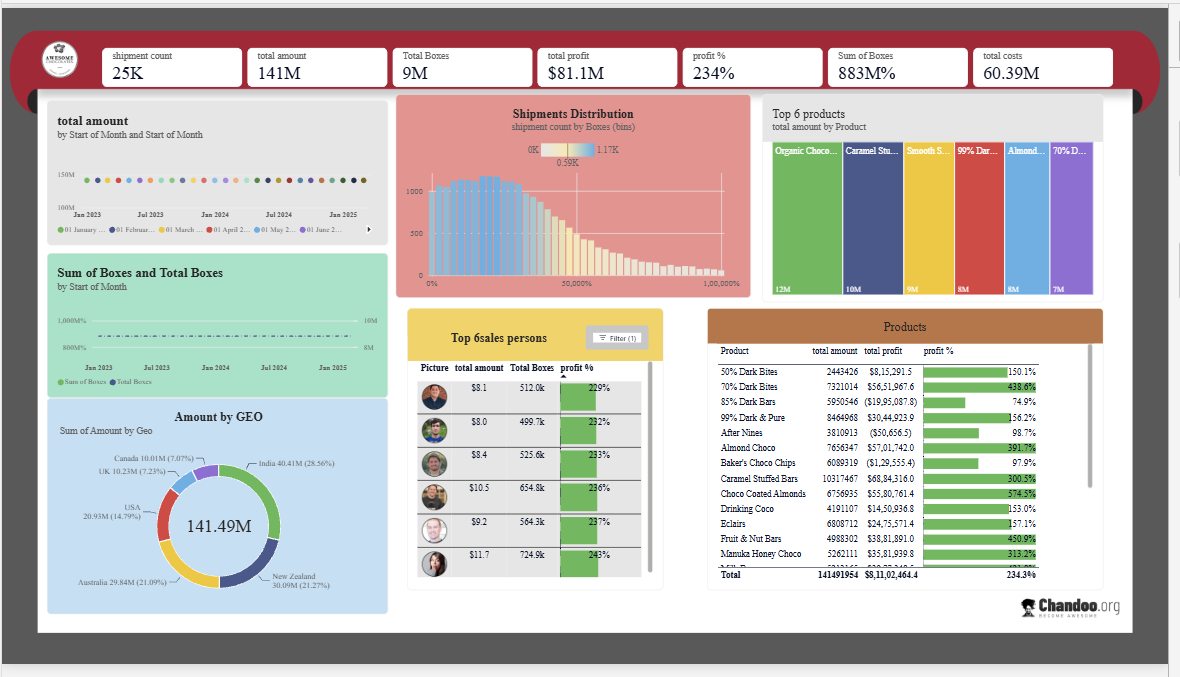

The dashboard page shown, as its layout file describes it:
{"tool":"powerbi","page":{"name":"Bi report","canvas":[1920,1080],"ordinal":4},"visuals":[{"type":"lineChart","fields":{"Category":["calendar.Start of Month"],"Series":["calendar.Start of Month"],"Y":["shipments.total amount"]},"box":[75,151.7,561.7,238.3],"z":0},{"type":"lineChart","fields":{"Category":["calendar.Start of Month"],"Y":["Sum(shipments.Boxes)"],"Y2":["shipments.Total Boxes"]},"box":[75,403.3,561.7,238.3],"z":1000},{"type":"donutChart","title":"Amount by  GEO","fields":{"Category":["locations.Geo"],"Y":["Sum(shipments.Amount)"]},"box":[74.1,642.2,561.9,356.1],"z":2000},{"type":"clusteredColumnChart","title":"Shipments Distribution","fields":{"Category":["shipments.Boxes (bins)"],"Y":["shipments.shipment count"]},"box":[647.5,142.5,585,335],"z":3000},{"type":"tableEx","title":"Top 6sales persons","fields":{"Values":["people.First name","people.Picture","shipments.total amount","shipments.Total Boxes","shipments.profit %"]},"box":[666.1,493.2,422,464.4],"z":4000},{"type":"treemap","title":"Top 6 products","fields":{"Group":["products.Product"],"Values":["shipments.total amount"]},"box":[1250.8,142.4,562.7,342.4],"z":4002},{"type":"tableEx","title":"Products","fields":{"Values":["products.Product","shipments.total amount","shipments.total profit","shipments.profit %"]},"box":[1161,493.2,652.5,464.4],"z":4003},{"type":"cardVisual","fields":{"Data":["shipments.shipment count","shipments.total amount","shipments.Total Boxes","shipments.total profit","shipments.profit %","Sum(shipments.Boxes)","shipments.total costs"]},"box":[164.7,45.3,1665.2,96.7],"z":4004}]}

Visuals, with their boxes in screenshot pixels (x1, y1, x2, y2), scaled from the page's 1920x1080 canvas onto the 1180x677 screenshot:
lineChart - calendar.Start of Month x calendar.Start of Month: bbox=(46, 95, 391, 244)
lineChart - calendar.Start of Month x Sum(shipments.Boxes): bbox=(46, 253, 391, 402)
"Amount by  GEO" donutChart: bbox=(46, 403, 391, 626)
"Shipments Distribution" clusteredColumnChart: bbox=(398, 89, 757, 299)
"Top 6sales persons" tableEx: bbox=(409, 309, 669, 600)
"Top 6 products" treemap: bbox=(769, 89, 1115, 304)
"Products" tableEx: bbox=(714, 309, 1115, 600)
cardVisual - shipments.shipment count x shipments.total amount: bbox=(101, 28, 1125, 89)
